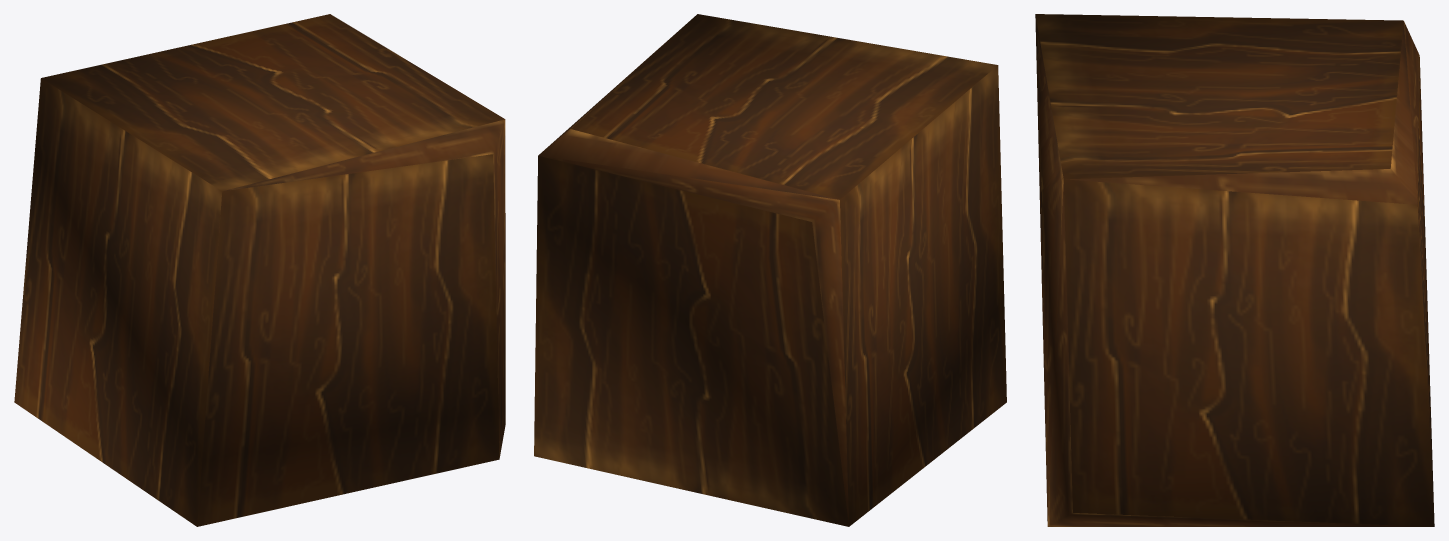
The model's file is 5_V_Caja_Claro2_LOD_2.fbx.
3 renders of one model, left to right at view 1: azimuth 30°, elevation 25°; view 2: azimuth 150°, elevation 25°; view 3: azimuth 270°, elevation 25°, orthographic. The views are drawn at different scales.
Visible parts, largest first — view 1: 5_V_Caja_Claro2_LOD_2; view 2: 5_V_Caja_Claro2_LOD_2; view 3: 5_V_Caja_Claro2_LOD_2.
Part boxes in pixels (box(x1,y1,x2,y2)): 5_V_Caja_Claro2_LOD_2: box(14, 14, 505, 526); 5_V_Caja_Claro2_LOD_2: box(534, 14, 1006, 526); 5_V_Caja_Claro2_LOD_2: box(1035, 14, 1434, 526).
Bounding box in the file's own units: 61.11 × 60.8 × 60.24.
